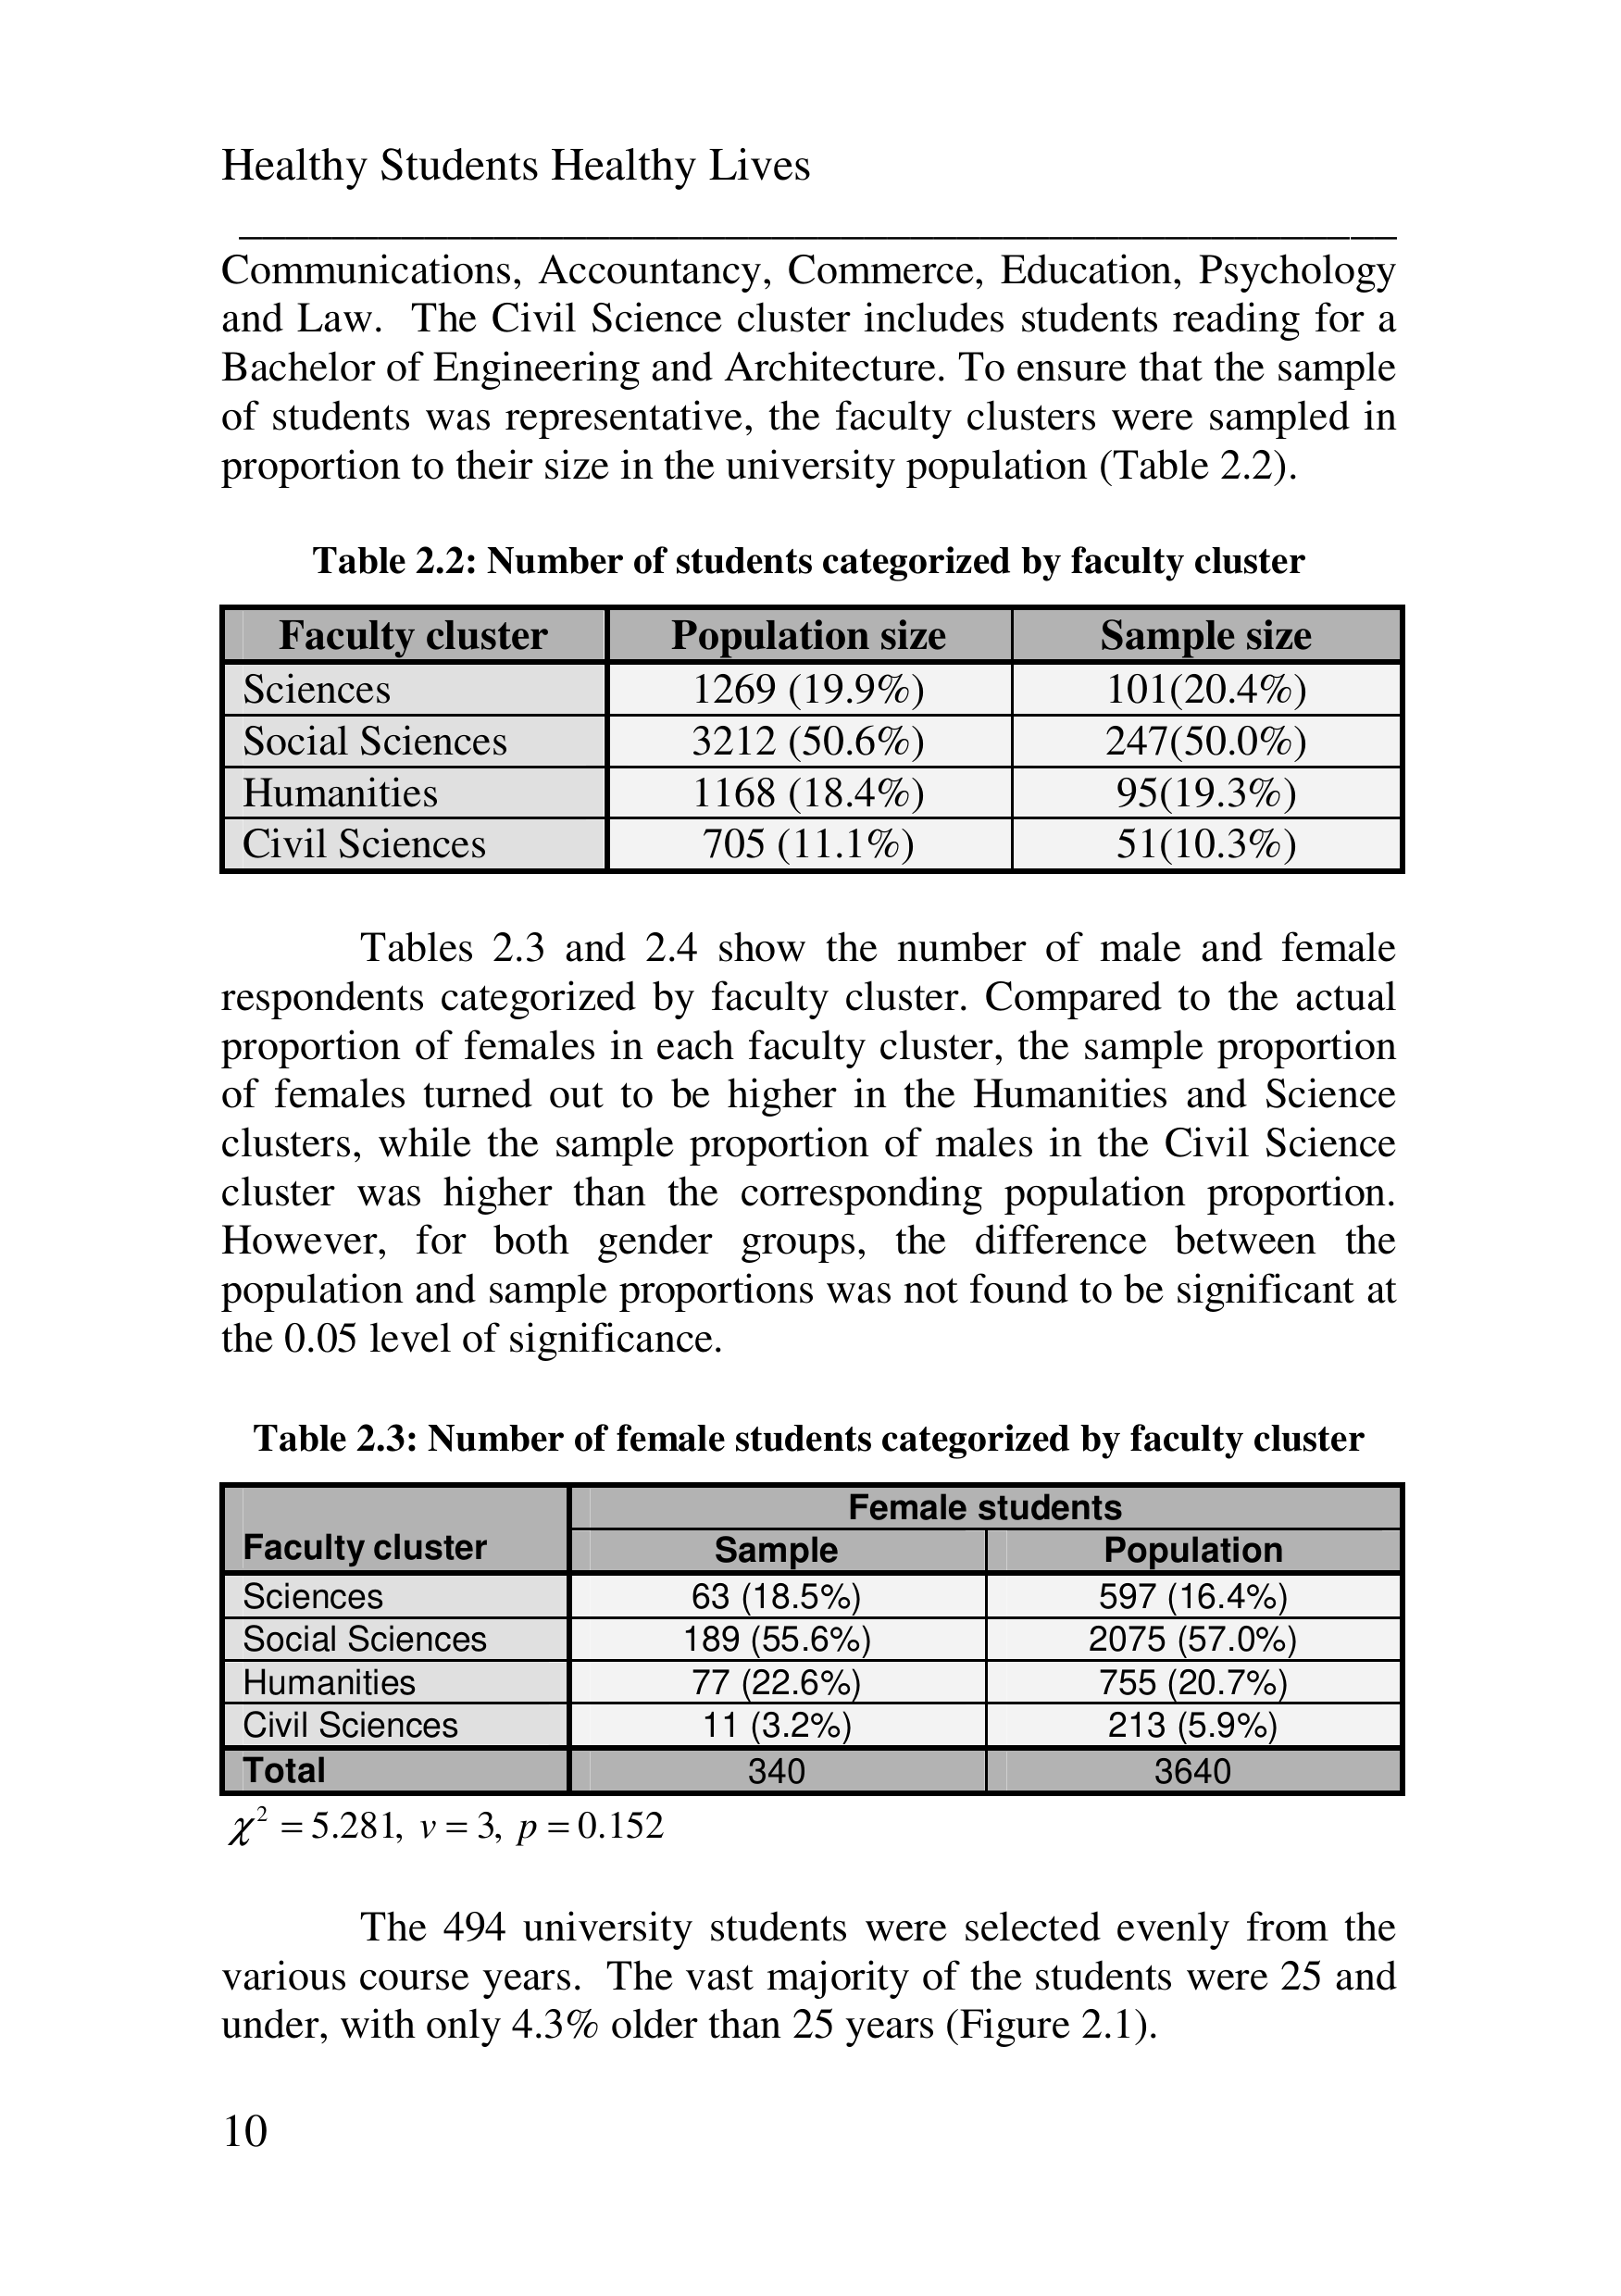table: (216, 1479, 1405, 1798), (214, 598, 1407, 873)
